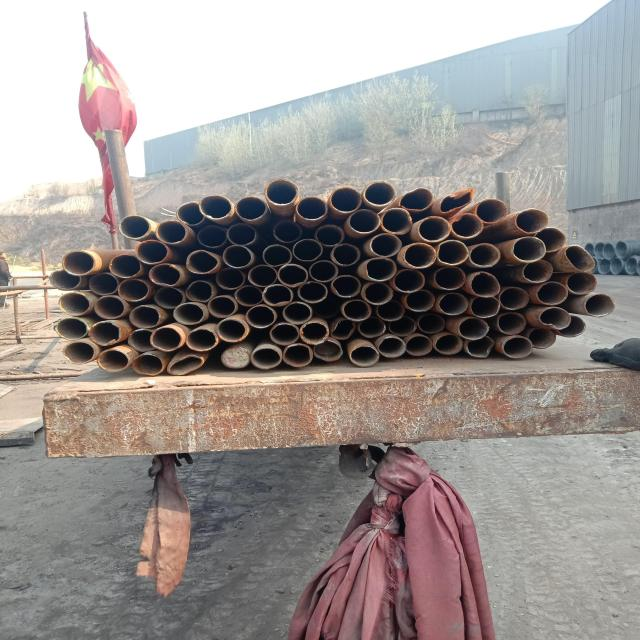pipe: (437, 188, 477, 215), (361, 178, 396, 208), (562, 244, 597, 274), (380, 207, 415, 237), (401, 242, 441, 268), (448, 212, 485, 240), (126, 303, 164, 329), (468, 270, 502, 299), (469, 242, 504, 270), (434, 238, 469, 266), (133, 240, 172, 265), (397, 185, 433, 212), (582, 293, 618, 320), (415, 216, 451, 243), (61, 250, 98, 276), (184, 249, 221, 275), (264, 177, 298, 205), (234, 195, 268, 223), (514, 207, 548, 235), (198, 194, 234, 220), (147, 263, 183, 289), (214, 318, 250, 344), (475, 197, 508, 225), (296, 195, 330, 222), (534, 226, 568, 253), (512, 237, 546, 264), (348, 208, 382, 235), (537, 305, 572, 331), (363, 257, 398, 283), (403, 288, 438, 314), (330, 186, 362, 214), (89, 319, 122, 346), (115, 278, 152, 302), (368, 232, 402, 258), (328, 272, 362, 298), (154, 220, 189, 245), (124, 327, 159, 352), (534, 281, 569, 306), (359, 281, 394, 306), (563, 272, 601, 295), (54, 316, 90, 340), (60, 340, 96, 364), (500, 335, 536, 359), (92, 295, 125, 321), (150, 326, 183, 352), (166, 354, 205, 376), (329, 242, 362, 268), (244, 304, 277, 330), (249, 345, 282, 371), (108, 253, 142, 278), (96, 348, 130, 373), (393, 268, 427, 293), (498, 287, 532, 312), (57, 291, 92, 315), (275, 263, 310, 287), (118, 214, 150, 240), (170, 303, 206, 326), (174, 201, 207, 226), (152, 285, 185, 310), (195, 224, 229, 248), (433, 266, 467, 290), (272, 218, 303, 244), (458, 316, 490, 341), (268, 322, 300, 347), (185, 328, 218, 352), (87, 272, 121, 295), (130, 353, 164, 376), (282, 343, 313, 368), (205, 294, 237, 318), (222, 245, 254, 269), (496, 312, 528, 336), (438, 292, 470, 316), (340, 298, 372, 322), (281, 301, 314, 324), (47, 269, 83, 290), (405, 334, 435, 359), (314, 224, 345, 248), (308, 259, 339, 283), (522, 261, 554, 284), (182, 279, 214, 302), (261, 245, 293, 268), (216, 267, 246, 291), (299, 321, 329, 345), (220, 346, 250, 370), (469, 295, 500, 318), (348, 344, 379, 367), (464, 336, 496, 358), (226, 223, 256, 246), (558, 315, 588, 338), (248, 264, 278, 287), (434, 334, 465, 356), (296, 282, 328, 303), (528, 327, 557, 350), (313, 340, 343, 362), (387, 317, 419, 337), (417, 312, 446, 334), (358, 316, 387, 338), (377, 336, 406, 358), (330, 318, 357, 340), (376, 302, 406, 321), (313, 298, 339, 318)
